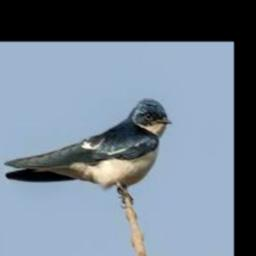Swallow: (4, 98, 171, 198)
